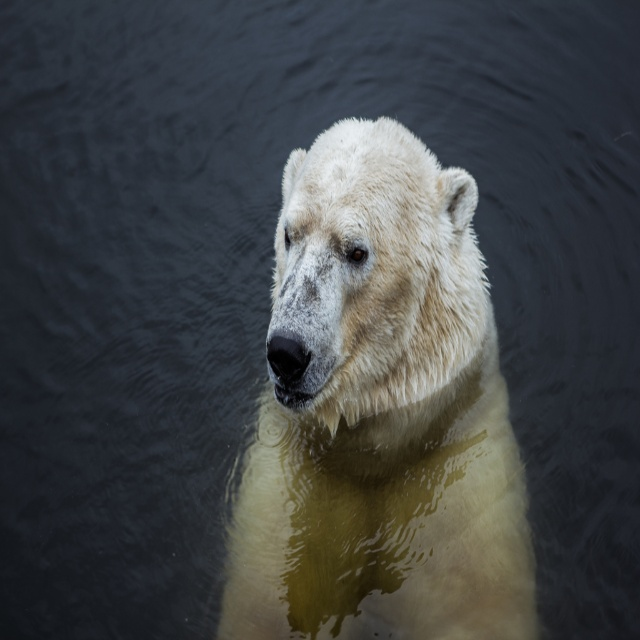Polar bear: (216, 113, 540, 639)
